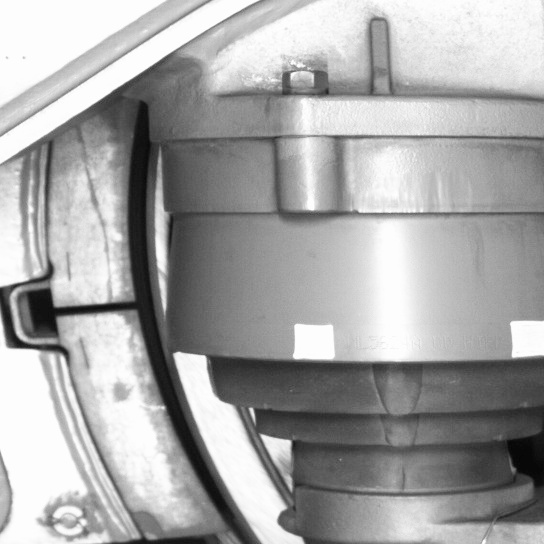KnifeSwitch: (46, 136, 264, 543)
